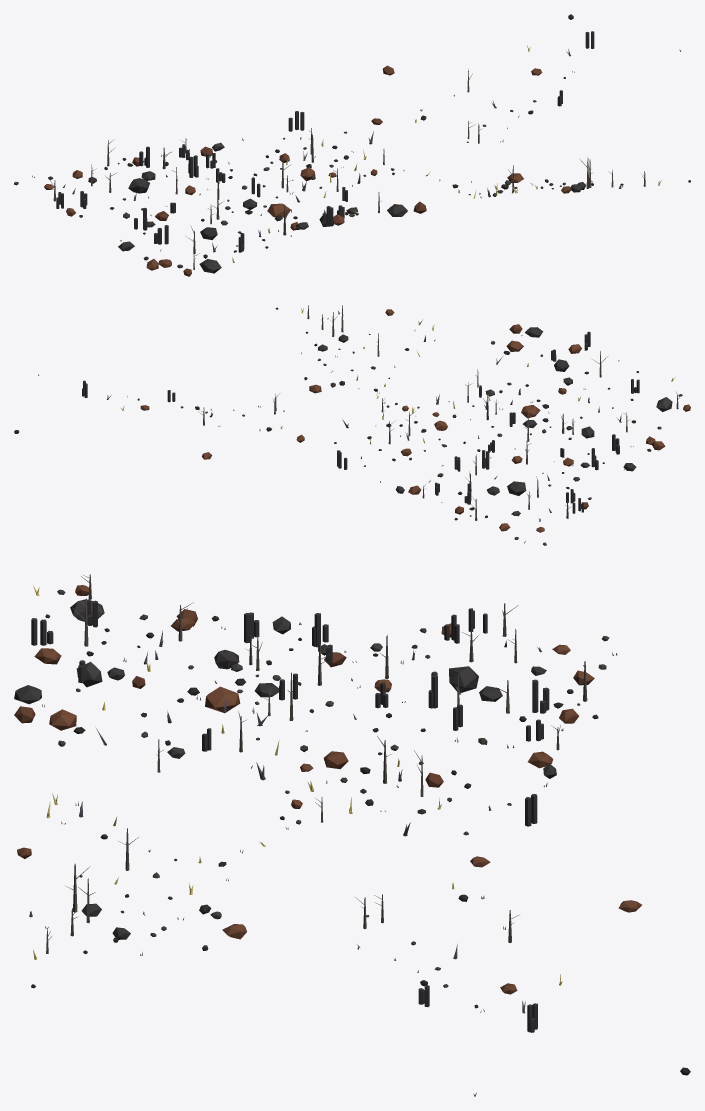
File: ash_land_scatter_c21_27_lod1.glb
The picture shows the model from 3 angles, top to bottom: view 1: azimuth 30°, elevation 25°; view 2: azimuth 150°, elevation 25°; view 3: azimuth 270°, elevation 25°; orthographic projection. The views are drawn at different scales.
Parts seen in each view (by area): view 1: ash_land_scatter_c21_27_lod1; view 2: ash_land_scatter_c21_27_lod1; view 3: ash_land_scatter_c21_27_lod1.
Part boxes in pixels (x1=…): ash_land_scatter_c21_27_lod1: x1=14, y1=14, x2=690, y2=276; ash_land_scatter_c21_27_lod1: x1=14, y1=305, x2=690, y2=545; ash_land_scatter_c21_27_lod1: x1=14, y1=574, x2=690, y2=1096.
Size of the model in its own units: 185 by 23 by 111.
